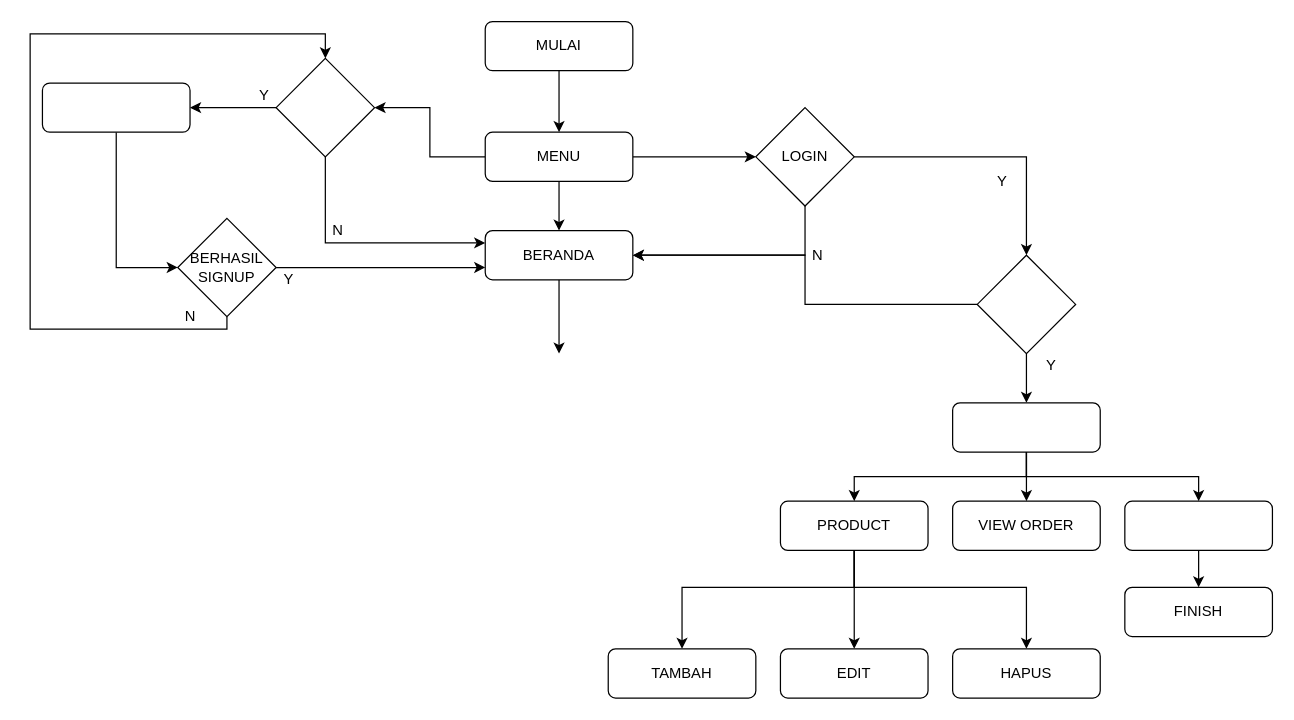
Some shapes in this 1294 by 720 pixel diagram are drawn without their labels. The centre of each missing label's shape, as x and y in pixels:
"BERANDA ADMIN" belongs at [1025,427].
"FORM SIGN UP" belongs at [115,107].
"IF ADMIN" belongs at [1026,304].
"LOG OUT" belongs at [1198,525].
"SIGN UP" belongs at [325,107].
